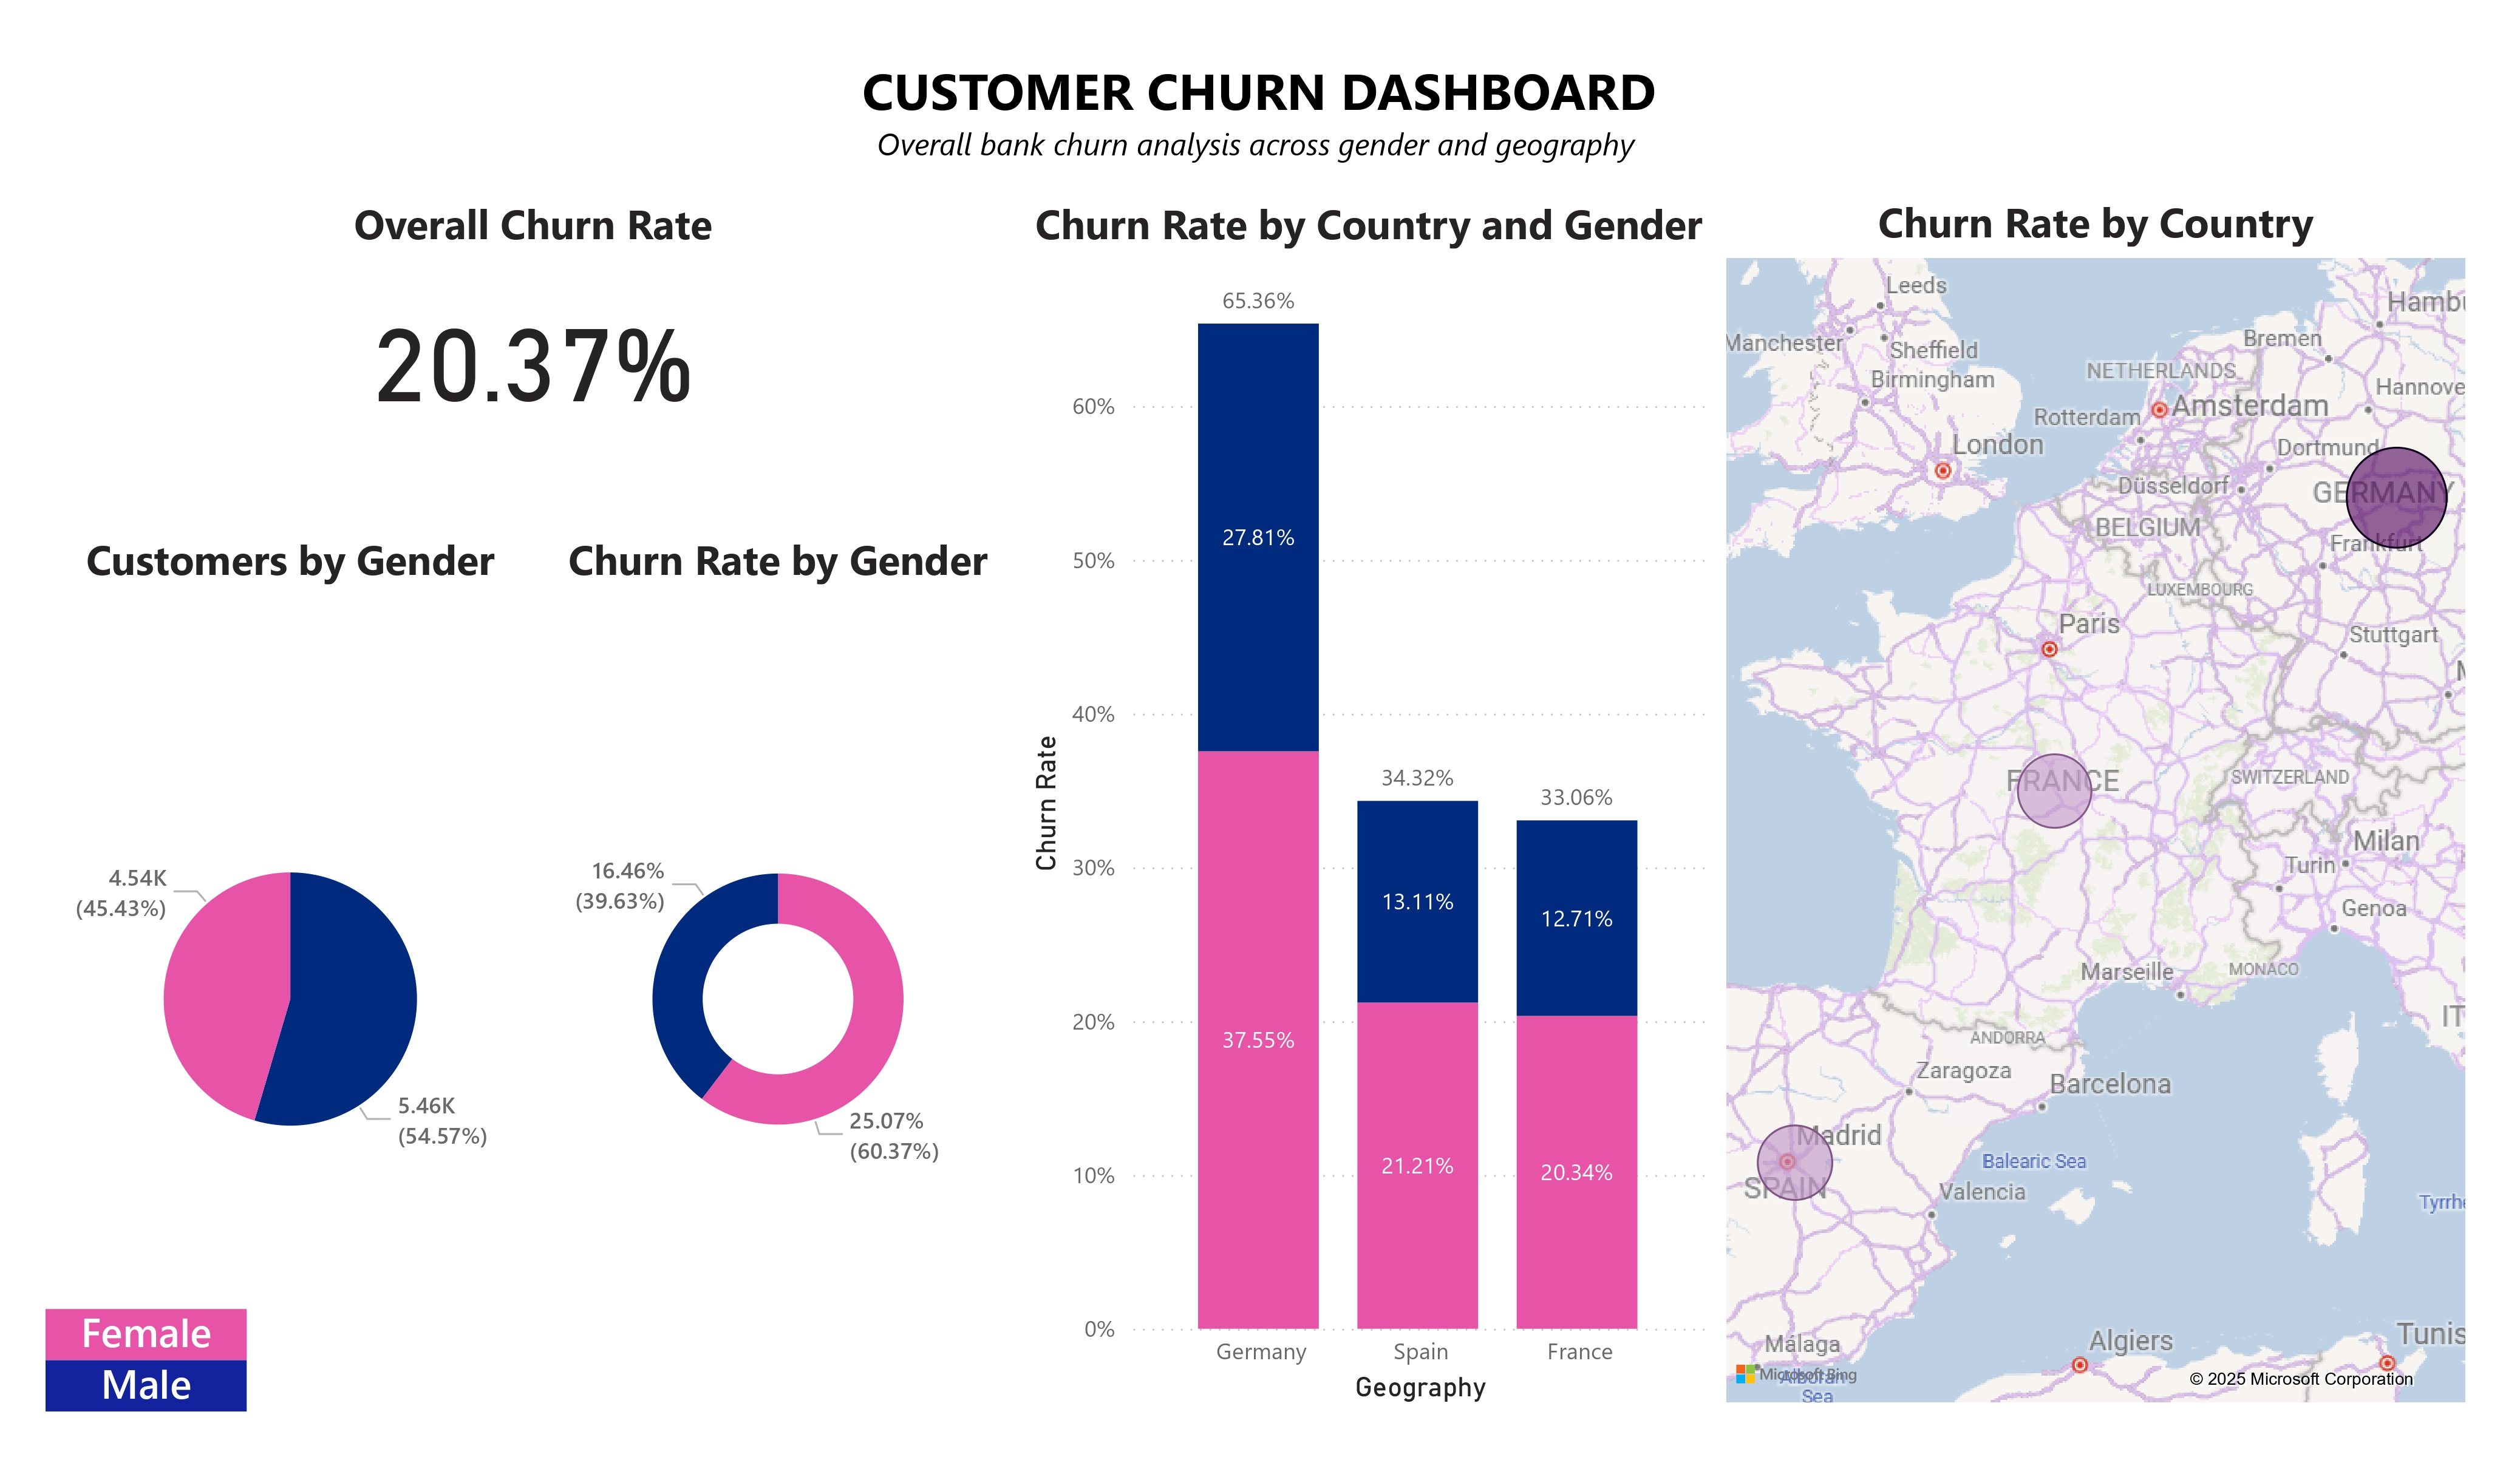

Layout of this report page (visuals, bound fields, positions):
{"tool":"powerbi","page":{"name":"CUSTOMER CHURN DASHBOARD","canvas":[1280,720],"ordinal":0},"visuals":[{"type":"pieChart","title":"Customers by Gender","fields":{"Category":["churn.Gender"],"Y":["CountNonNull(churn.CustomerId)"]},"box":[0,256.4,257.7,463.8],"z":0},{"type":"card","title":"Overall Churn Rate","fields":{"Values":["churn.Churn Rate"]},"box":[0,78.5,514.1,136.2],"z":1000},{"type":"columnChart","title":"Churn Rate by Country and Gender","fields":{"Category":["churn.Geography"],"Series":["churn.Gender"],"Y":["churn.Churn Rate"]},"box":[514.1,78.5,366.9,641.7],"z":2000},{"type":"map","title":"Churn Rate by Country","fields":{"Size":["churn.Churn Rate"],"Category":["churn.Geography"]},"box":[880.7,78.4,399.3,641.9],"z":3000},{"type":"donutChart","title":"Churn Rate by Gender","fields":{"Category":["churn.Gender"],"Y":["churn.Churn Rate"]},"box":[257.7,256.4,256.4,463.8],"z":4000},{"type":"card","fields":{"Values":["Min(churn.Gender)"]},"box":[0,665.5,105.7,27.4],"z":5000},{"type":"card","fields":{"Values":["Max(churn.Gender)"]},"box":[0,692.9,105.7,27.4],"z":6000},{"type":"textbox","box":[424.2,0,430.4,78.4],"z":7000}]}

Visuals, with their boxes in screenshot pixels (x1, y1, x2, y2):
"Customers by Gender" pieChart: 46, 532, 534, 1411
"Overall Churn Rate" card: 46, 194, 1021, 453
"Churn Rate by Country and Gender" columnChart: 1021, 194, 1717, 1411
"Churn Rate by Country" map: 1717, 194, 2474, 1411
"Churn Rate by Gender" donutChart: 534, 532, 1021, 1411
card - Min(churn.Gender): 46, 1308, 246, 1360
card - Max(churn.Gender): 46, 1360, 246, 1411
textbox: 851, 46, 1667, 194
